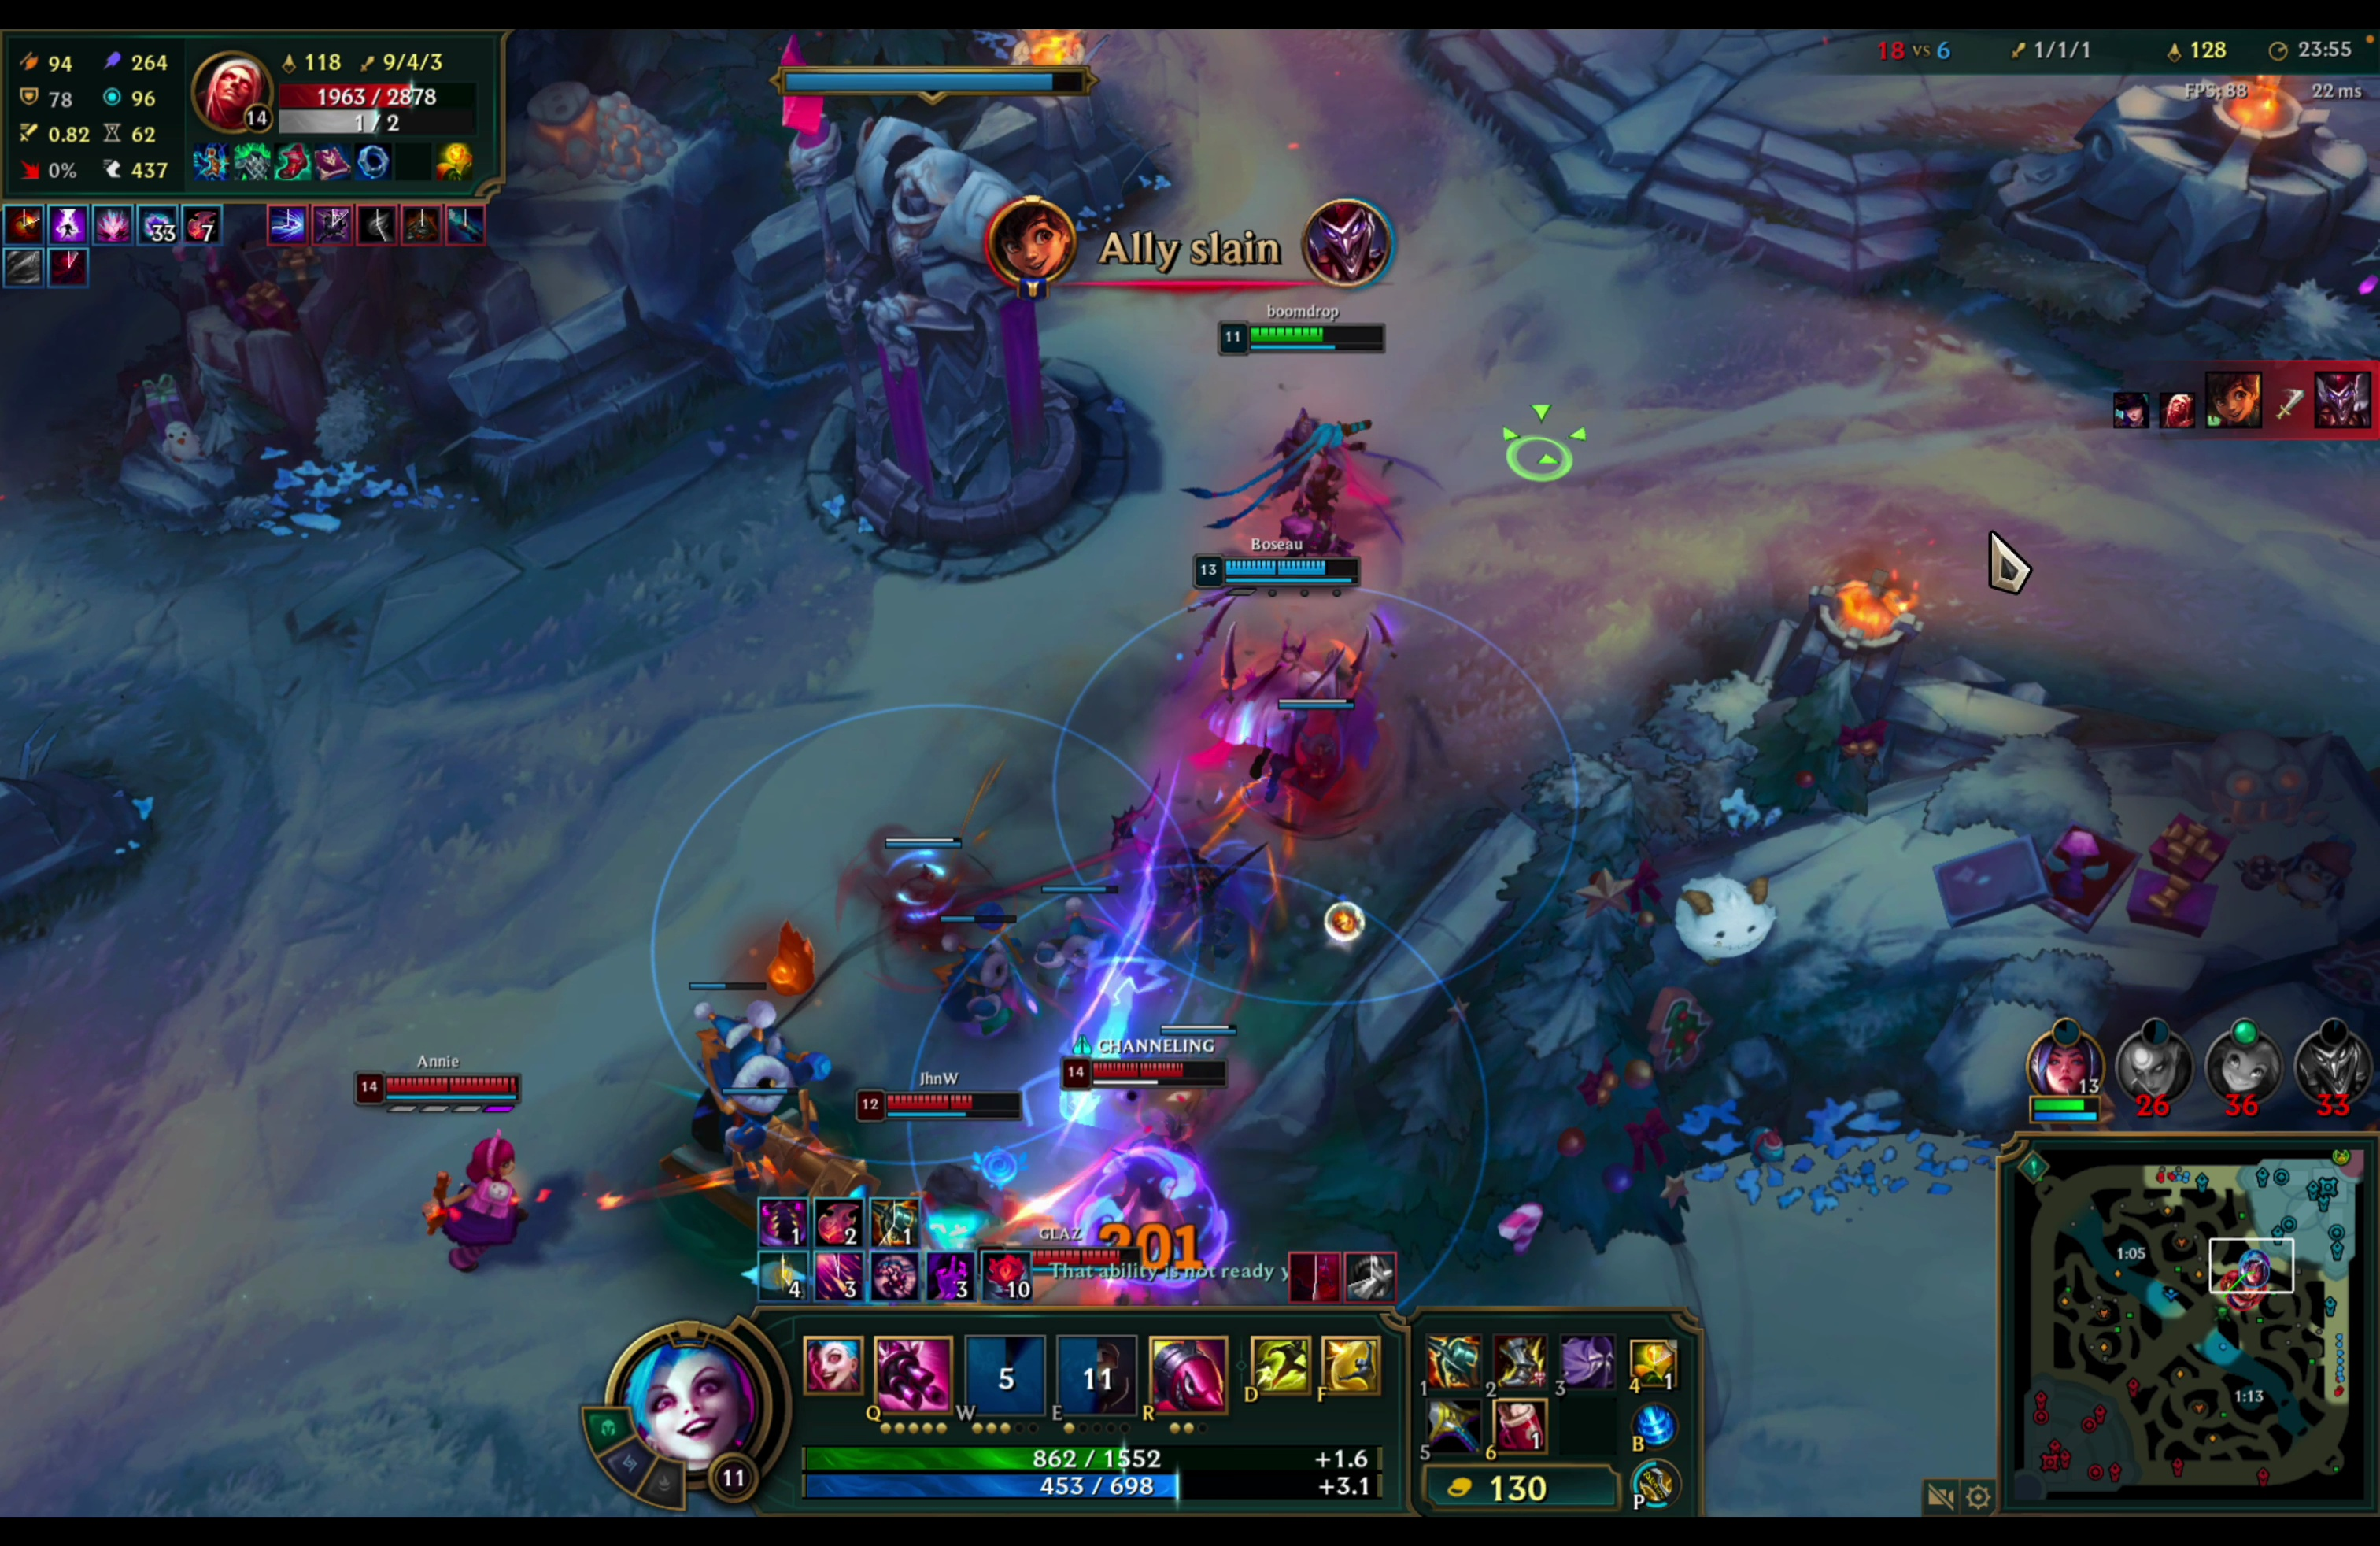JINX_W_PROJECTILE: (1034, 297, 1429, 1152)
